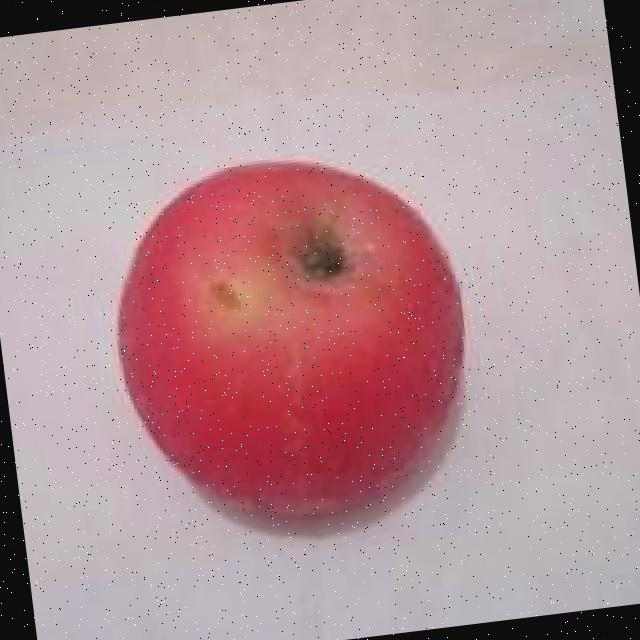apple: (79, 124, 512, 574)
